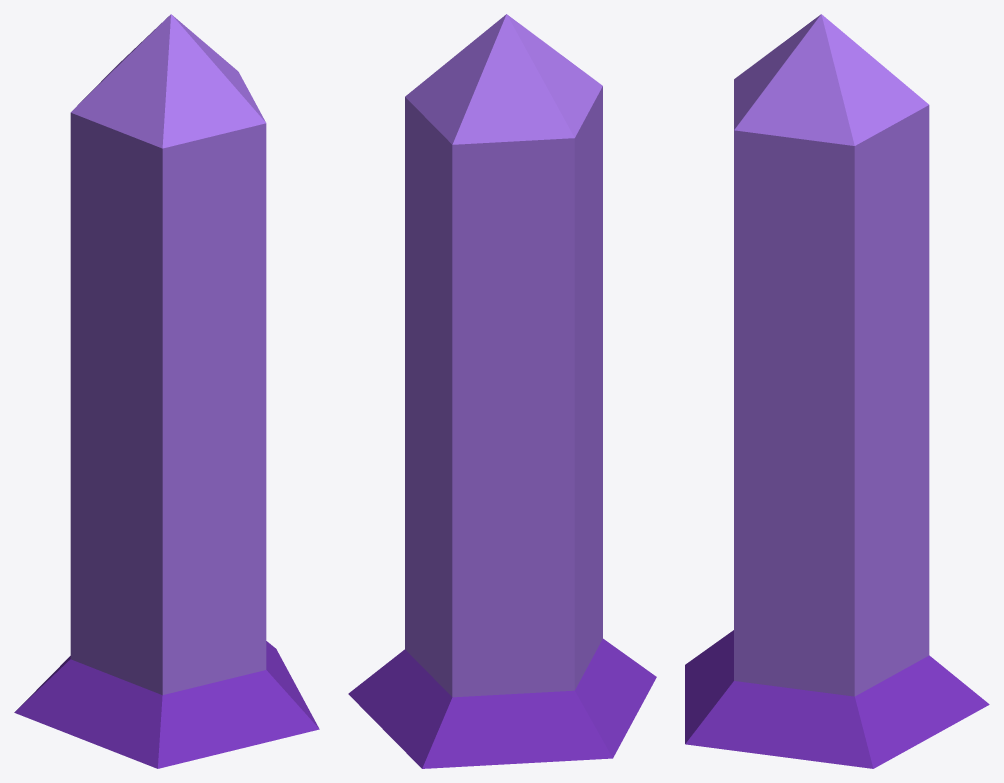
Rendered from crystal_004_grp.fbx.
3 views of the same model, side by side, from view 1: azimuth 30°, elevation 25°; view 2: azimuth 150°, elevation 25°; view 3: azimuth 270°, elevation 25° (orthographic).
Parts seen in each view (by area): view 1: crystal_004_grp; view 2: crystal_004_grp; view 3: crystal_004_grp.
Part boxes in pixels (x1=…): crystal_004_grp: x1=14, y1=14, x2=319, y2=768; crystal_004_grp: x1=348, y1=14, x2=656, y2=768; crystal_004_grp: x1=685, y1=14, x2=989, y2=768.
Size of the model in its own units: 20 by 50 by 20.
